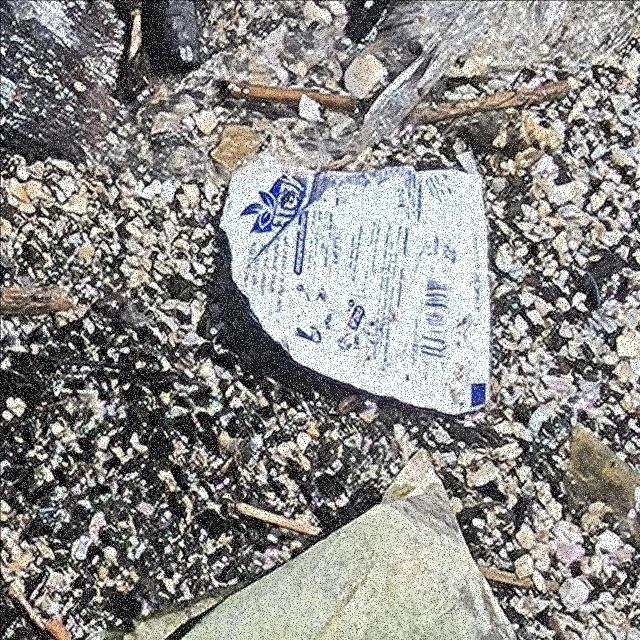plastic_waste: (218, 163, 493, 417)
